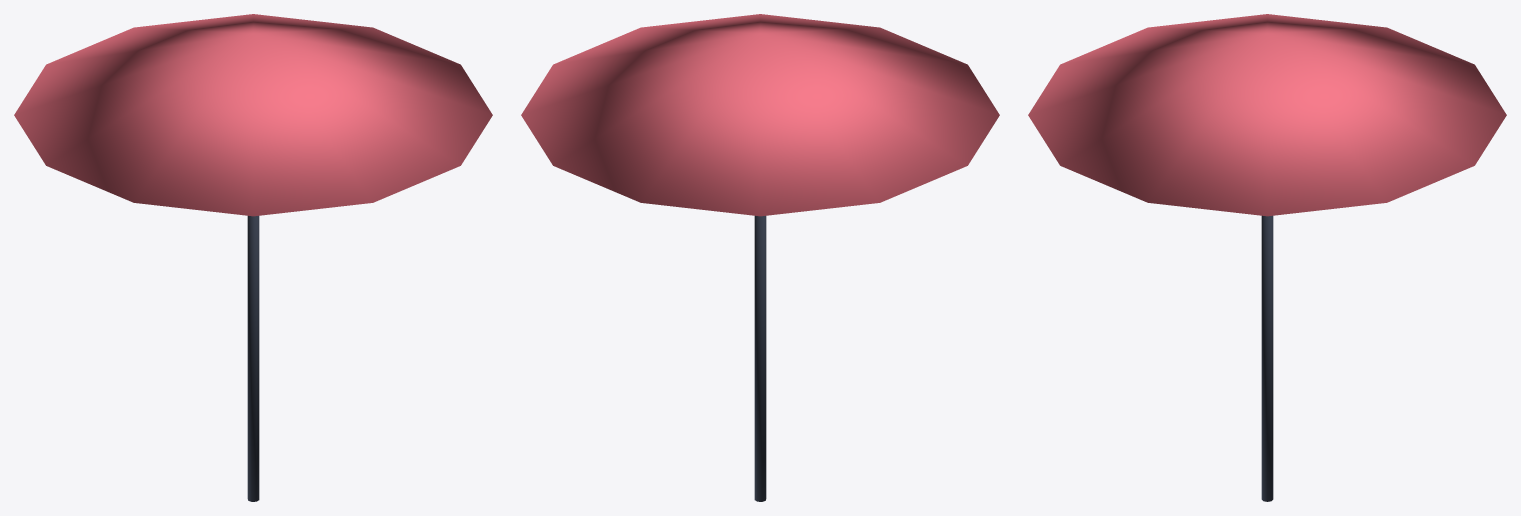
File: umbrella.glb
3 renders of one model, left to right at view 1: azimuth 30°, elevation 25°; view 2: azimuth 150°, elevation 25°; view 3: azimuth 270°, elevation 25°, orthographic.
Parts seen in each view (by area): view 1: umbrella_canopy, umbrella; view 2: umbrella_canopy, umbrella; view 3: umbrella_canopy, umbrella.
Part boxes in pixels (x1,y1,x2,y2): umbrella_canopy: [14, 14, 492, 216]; umbrella: [247, 216, 259, 501]; umbrella_canopy: [521, 14, 999, 216]; umbrella: [754, 216, 766, 501]; umbrella_canopy: [1028, 14, 1506, 216]; umbrella: [1261, 215, 1273, 501].
Bounding box in the file's own units: 2.4 × 2.57 × 2.4.
